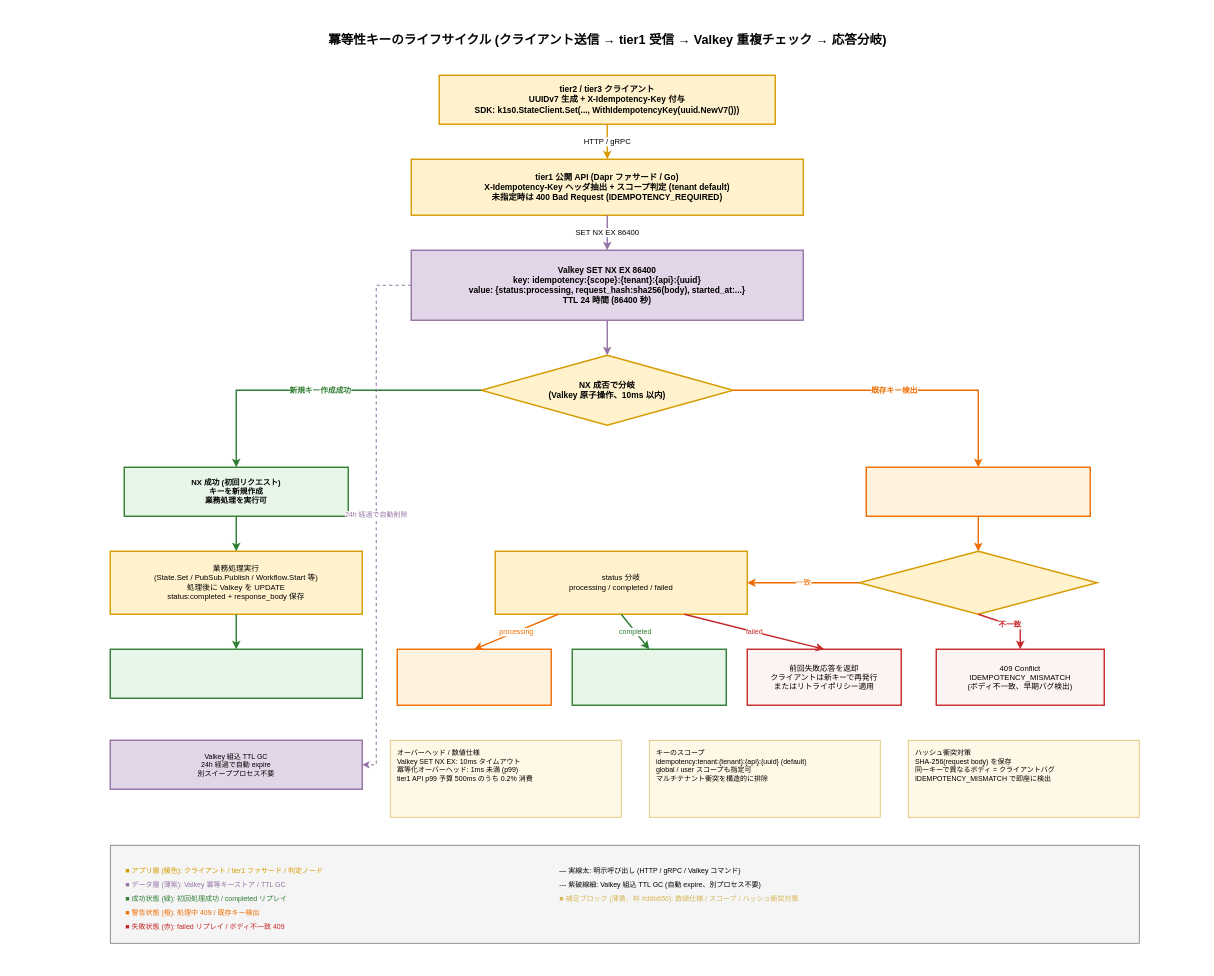
Image size: 1214x976. Some labels were removed from this diagram. Each missing label, with the box of its shape:
200 OK + 処理結果応答 X-Idempotent-Replay: false: (109, 648, 363, 699)
409 Conflict Retry-After: 5s processing 状態 (5 分超過時は強制 failed 遷移): (396, 648, 552, 706)
NX 失敗 (既存キー検出) 既存 status を読み出して分岐: (865, 466, 1091, 517)
request_hash 照合 (衝突対策) SHA-256(body) が一致するか確認: (858, 550, 1098, 615)
凡例: (110, 845, 1139, 943)
前回応答をリプレイ X-Idempotent-Replay: true 業務処理は再実行しない: (571, 648, 727, 706)
